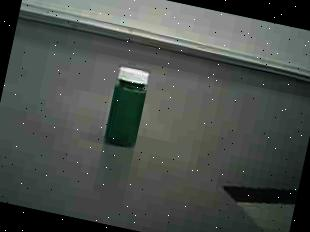Bottle C: (90, 54, 166, 160)
